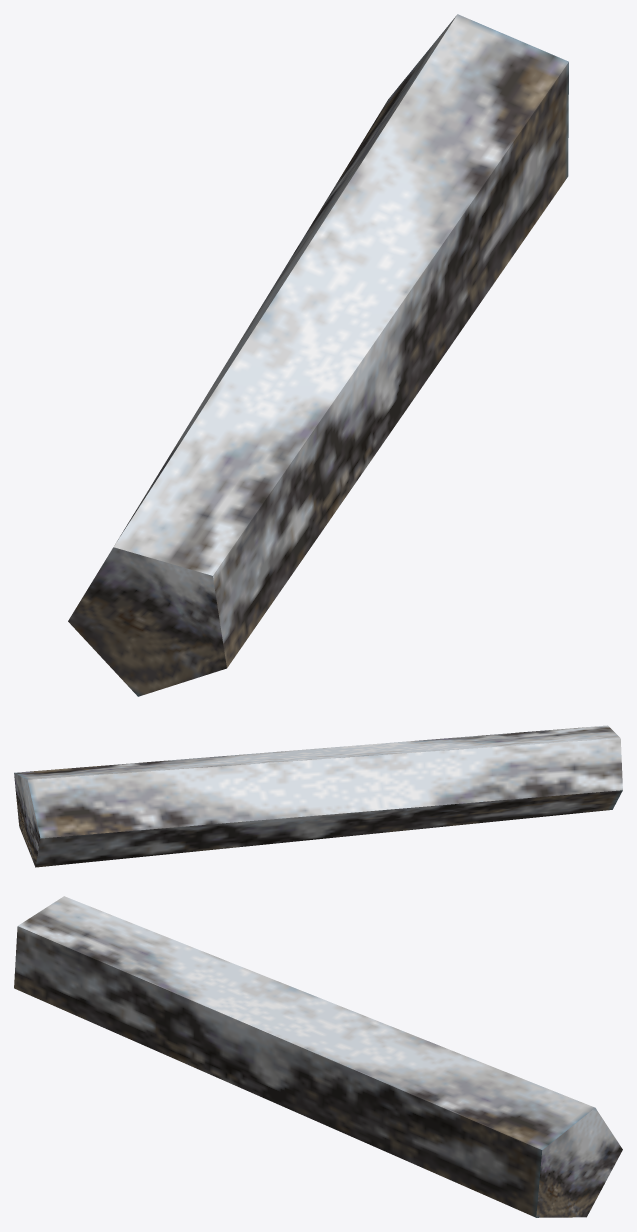
The model's file is 5013_Item_mutou_1.FBX.
The picture shows the model from 3 angles, top to bottom: view 1: azimuth 30°, elevation 25°; view 2: azimuth 150°, elevation 25°; view 3: azimuth 270°, elevation 25°; orthographic projection. The views are drawn at different scales.
Parts seen in each view (by area): view 1: 5013_Item_mutou_1; view 2: 5013_Item_mutou_1; view 3: 5013_Item_mutou_1.
Boxes of the visible parts, bbox=[...] form: 5013_Item_mutou_1: bbox=[68, 14, 568, 696]; 5013_Item_mutou_1: bbox=[14, 725, 622, 867]; 5013_Item_mutou_1: bbox=[14, 896, 622, 1217].
Bounding box in the file's own units: 378 × 79.59 × 367.
